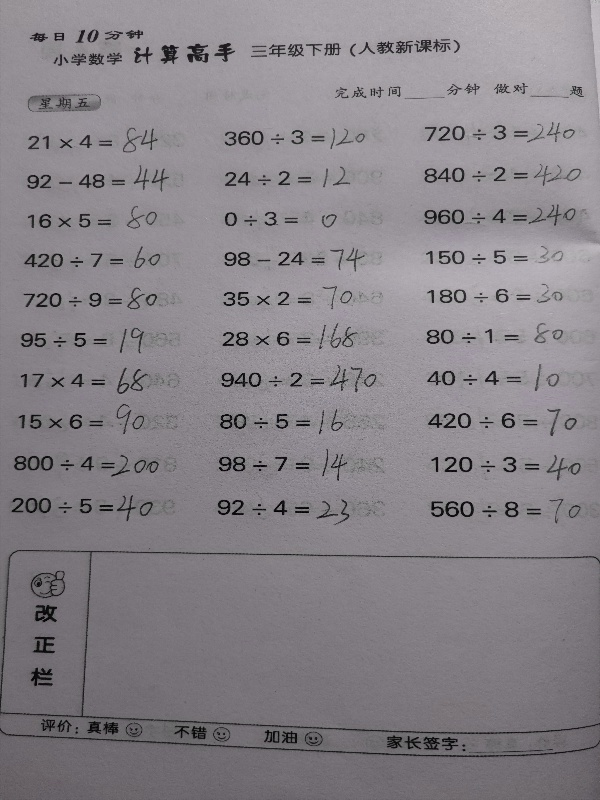equation: (214, 441, 367, 481), (8, 492, 176, 525), (217, 359, 380, 393), (425, 405, 581, 440), (16, 402, 155, 440), (217, 317, 366, 351), (427, 495, 585, 527), (422, 362, 570, 396), (428, 452, 585, 484), (421, 160, 585, 190), (23, 160, 172, 193), (215, 406, 363, 439), (422, 317, 574, 349), (23, 202, 166, 236), (421, 201, 580, 230), (221, 244, 368, 275), (25, 124, 162, 157), (213, 496, 352, 528), (9, 451, 162, 480), (421, 119, 578, 147), (19, 365, 156, 397), (21, 243, 165, 273), (18, 324, 148, 357), (423, 240, 570, 269), (20, 284, 161, 314), (221, 125, 368, 153), (425, 280, 567, 308), (220, 283, 355, 310), (221, 165, 353, 192), (220, 206, 345, 232)
